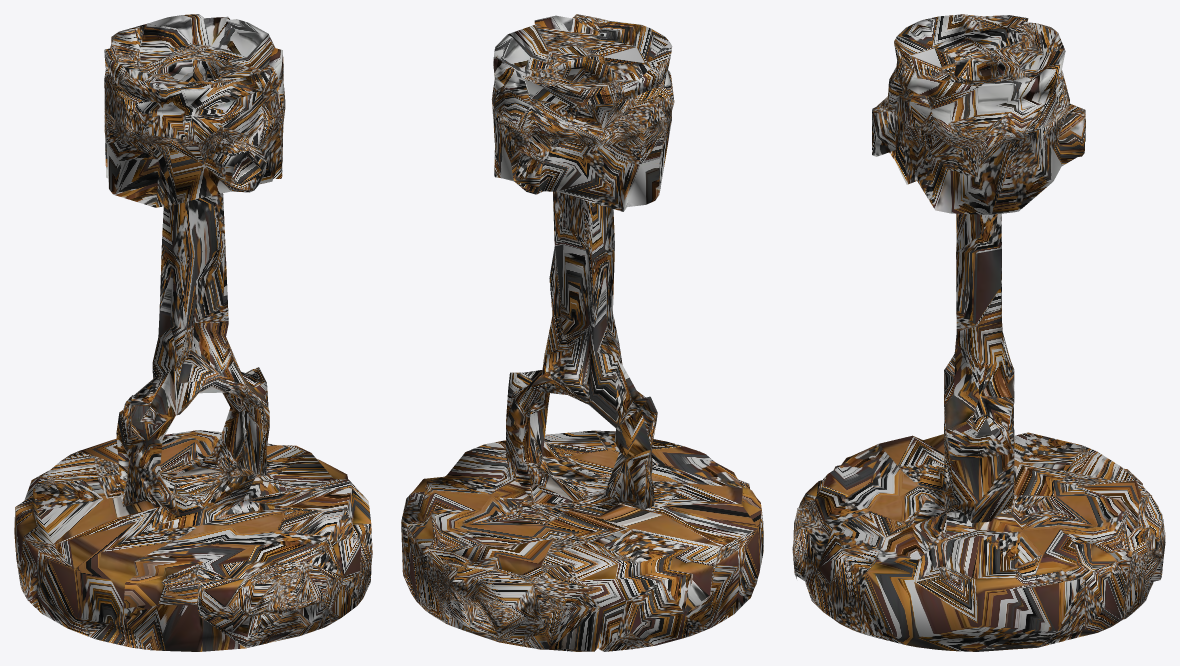
Rendered from piston-far.glb.
3 views of the same model, side by side, from view 1: azimuth 30°, elevation 25°; view 2: azimuth 150°, elevation 25°; view 3: azimuth 270°, elevation 25° (orthographic).
Size of the model in its own units: 1.18 by 1.9 by 1.22.
1 material, 1 textured.
